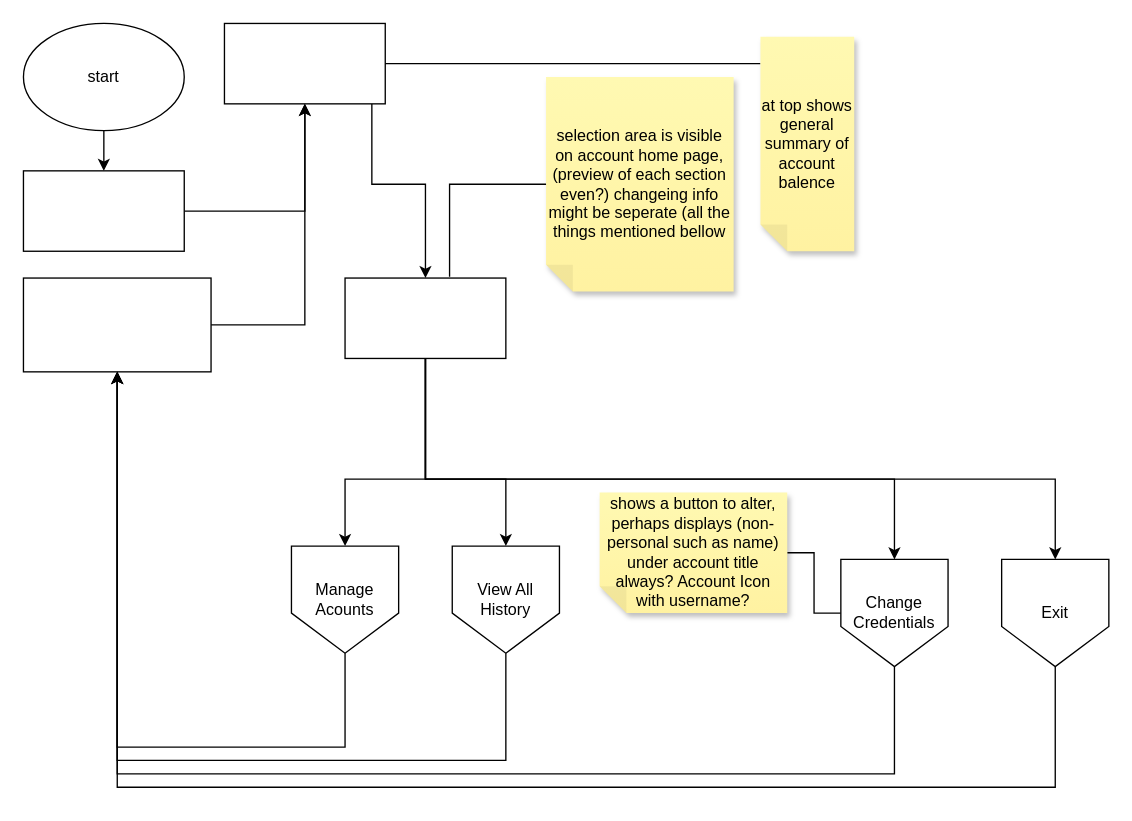
This 1132x821 diagram has some shape labels left out. Here are the shapes that lost their labels. From the top down, the centre of each, then its label:
At pixel 304 63: "Go to portal home page".
At pixel 103 210: "log in".
At pixel 116 324: "used menue (this box is used as a connector to orginize arrows. Your welcome)".
At pixel 425 317: "select menue option".
